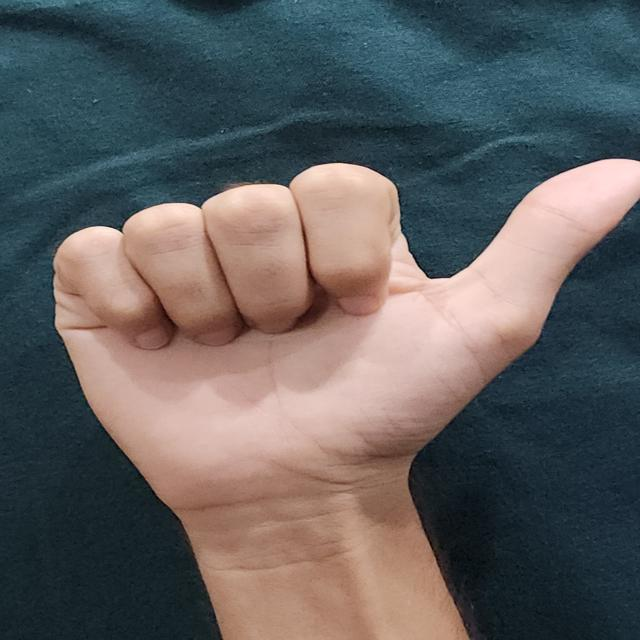چ: (44, 151, 640, 595)
